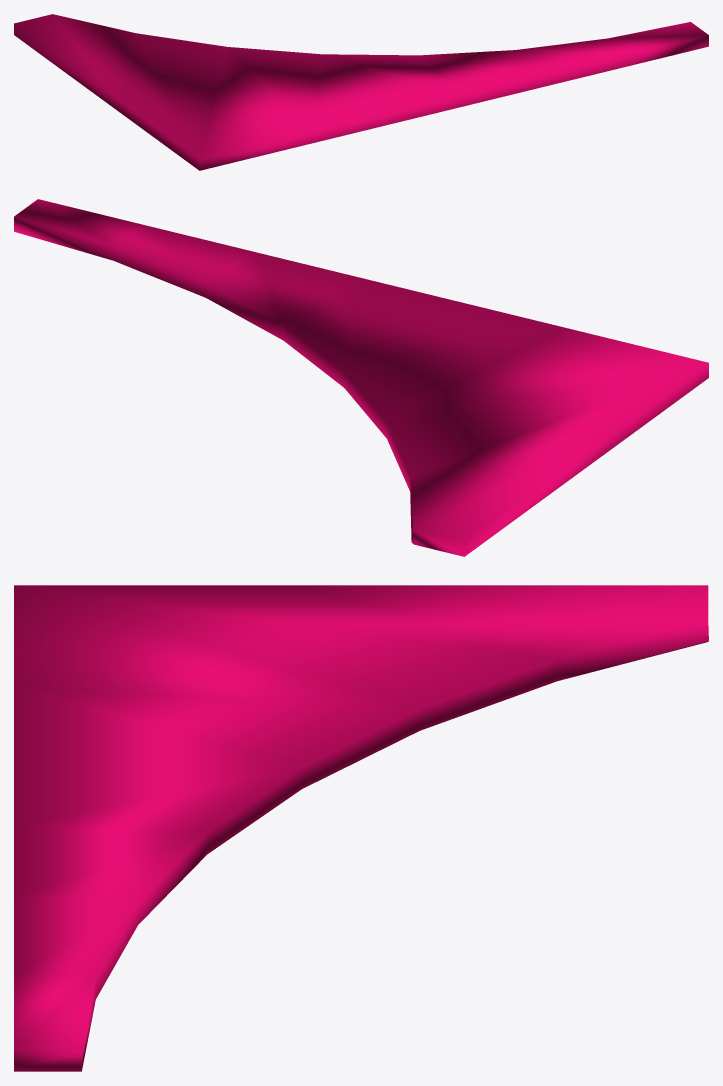
File: Board_Turn_90_04.fbx
3 views of the same model, one above another, from view 1: azimuth 30°, elevation 25°; view 2: azimuth 150°, elevation 25°; view 3: azimuth 270°, elevation 25° (orthographic). The views are drawn at different scales.
Parts seen in each view (by area): view 1: Board_Turn_90_04; view 2: Board_Turn_90_04; view 3: Board_Turn_90_04.
Boxes of the visible parts, left/top/right/bottom form: Board_Turn_90_04: left=14, top=14, right=708, bottom=170; Board_Turn_90_04: left=14, top=199, right=708, bottom=556; Board_Turn_90_04: left=14, top=585, right=708, bottom=1071.
Bounding box in the file's own units: 12.69 × 0.274 × 8.02.
